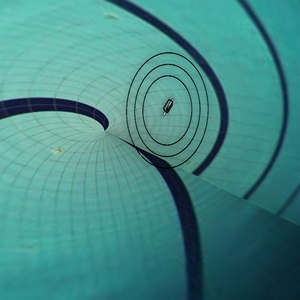circle: (115, 39, 238, 177)
submarine: (156, 93, 182, 121)
